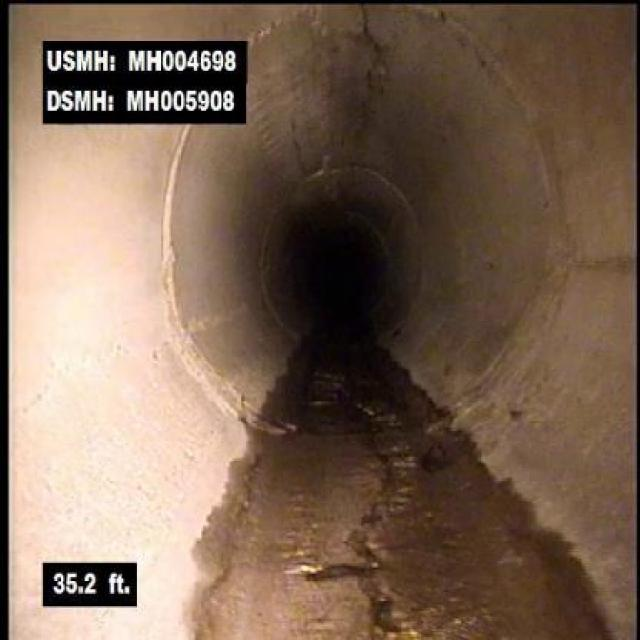Crack: (343, 455, 402, 637), (357, 12, 392, 102)
